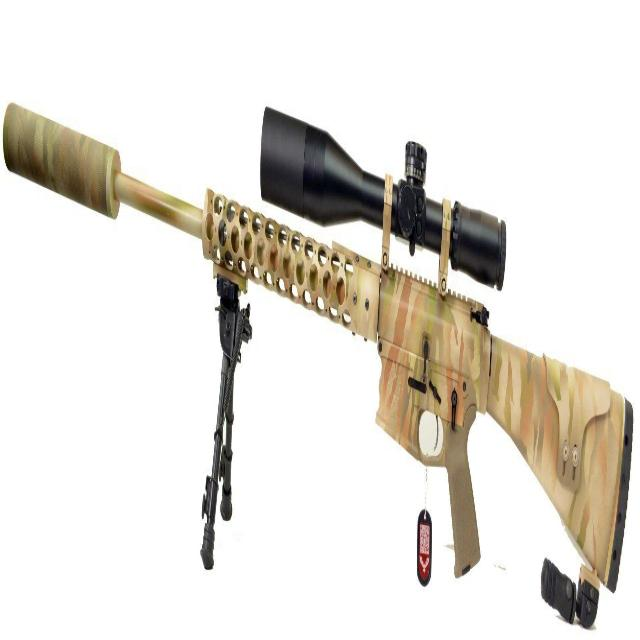Rifle: (1, 104, 635, 592)
